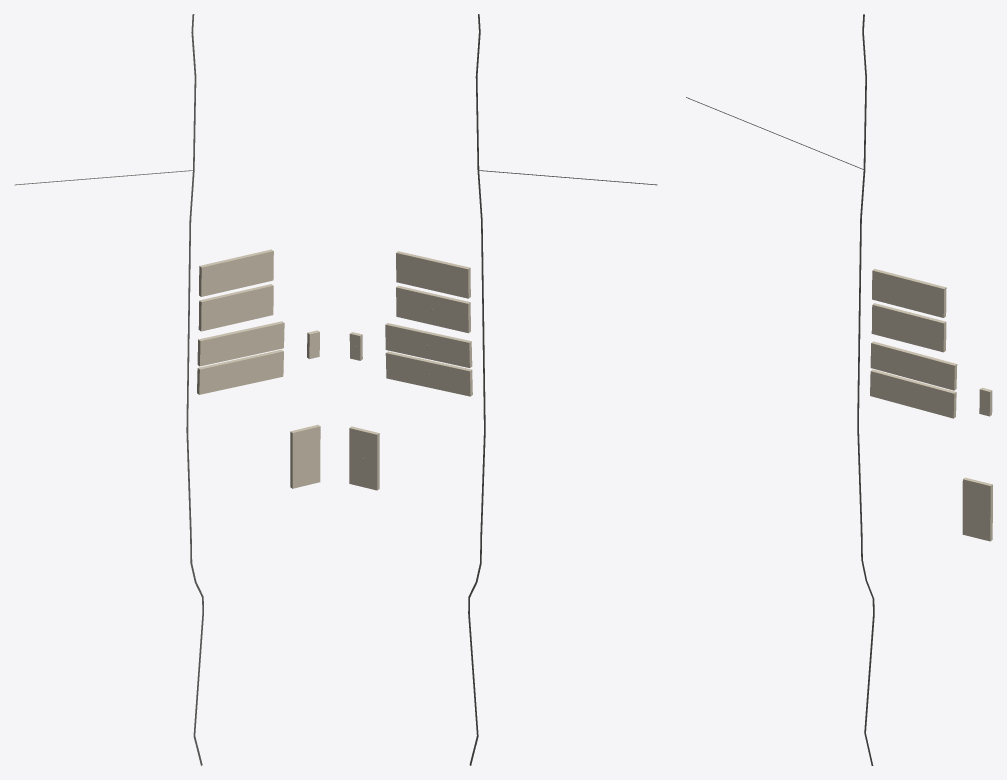
The model's file is historic-palestine-12_33_3543_3275.glb.
The picture shows the model from 3 angles, left to right: view 1: azimuth 30°, elevation 25°; view 2: azimuth 150°, elevation 25°; view 3: azimuth 330°, elevation 25°; orthographic projection.
Parts seen in each view (by area): view 1: Building_.002, Building_.003, Building_.001, Building_, Road, Building_.005; view 2: Building_.002, Building_.003, Building_, Building_.001, Building_.005, Road; view 3: Building_.003, Building_.002, Building_, Building_.001, Road, Building_.005.
Part boxes in pixels (left/top/right/bottom): Building_.002: left=197, top=321, right=284, bottom=366; Building_.003: left=197, top=349, right=283, bottom=394; Building_.001: left=198, top=284, right=273, bottom=331; Building_: left=199, top=249, right=273, bottom=296; Road: left=186, top=14, right=203, bottom=765; Building_.005: left=290, top=424, right=320, bottom=488; Building_.002: left=385, top=323, right=472, bottom=367; Building_.003: left=385, top=351, right=472, bottom=396; Building_: left=396, top=251, right=470, bottom=298; Building_.001: left=396, top=285, right=470, bottom=333; Building_.005: left=349, top=426, right=379, bottom=490; Road: left=468, top=14, right=485, bottom=765; Building_.003: left=870, top=369, right=956, bottom=418; Building_.002: left=870, top=341, right=957, bottom=390; Building_: left=872, top=269, right=946, bottom=317; Building_.001: left=871, top=303, right=946, bottom=352; Road: left=857, top=14, right=874, bottom=765; Building_.005: left=962, top=477, right=992, bottom=541.
Size of the model in its own units: 562 by 1321 by 8.7.
